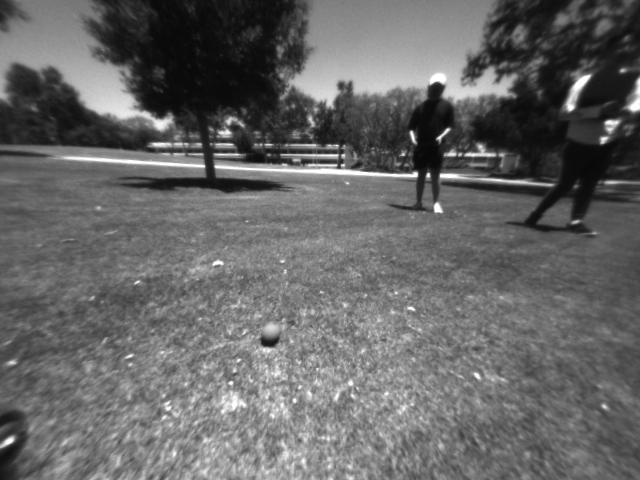dogtoy: (254, 318, 285, 348)
